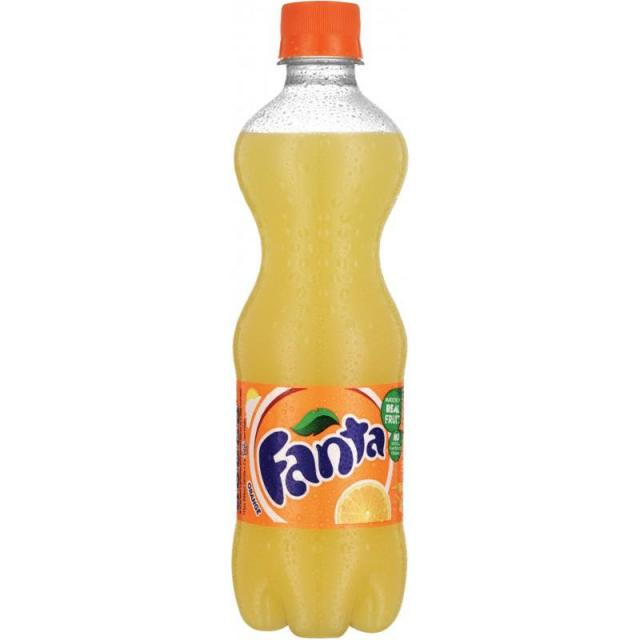plastic_bottle: (220, 1, 424, 636)
